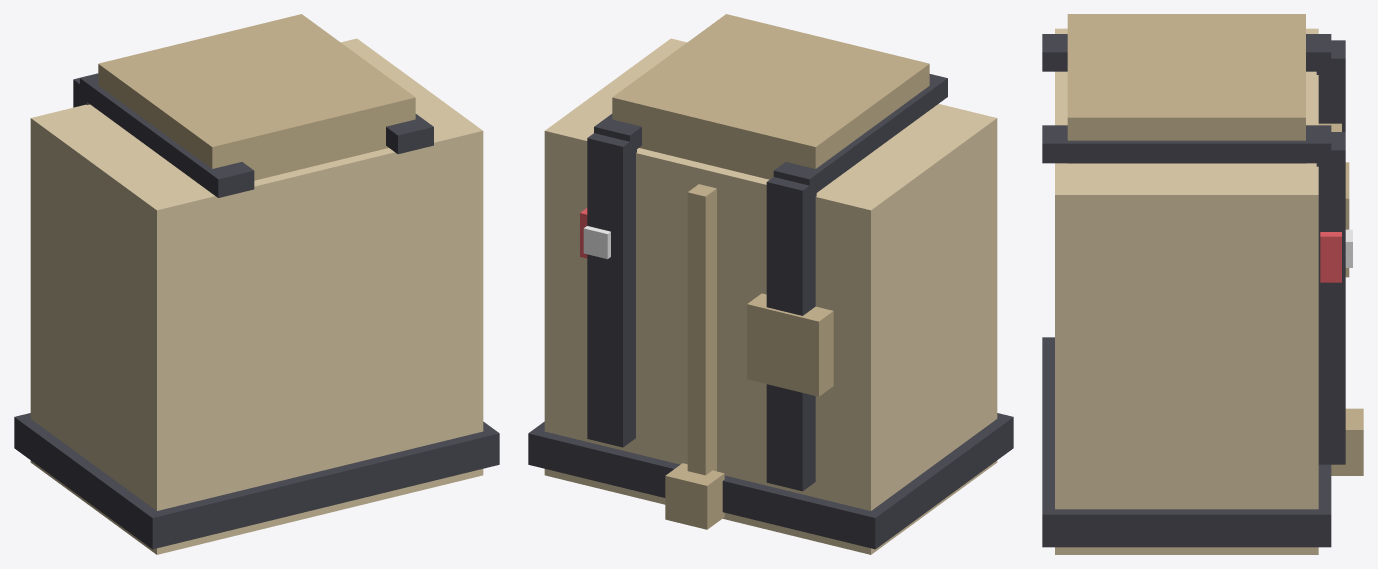
The model's file is cacafantasma_tronco.glb.
The picture shows the model from 3 angles, left to right: view 1: azimuth 30°, elevation 25°; view 2: azimuth 150°, elevation 25°; view 3: azimuth 270°, elevation 25°; orthographic projection. The views are drawn at different scales.
Parts seen in each view (by area): view 1: cacafantasma_tronco; view 2: cacafantasma_tronco; view 3: cacafantasma_tronco.
Part boxes in pixels (bbox=[...]): cacafantasma_tronco: bbox=[14, 14, 499, 554]; cacafantasma_tronco: bbox=[528, 14, 1013, 554]; cacafantasma_tronco: bbox=[1042, 14, 1363, 554].
Size of the model in its own units: 0.58 by 0.62 by 0.445.
